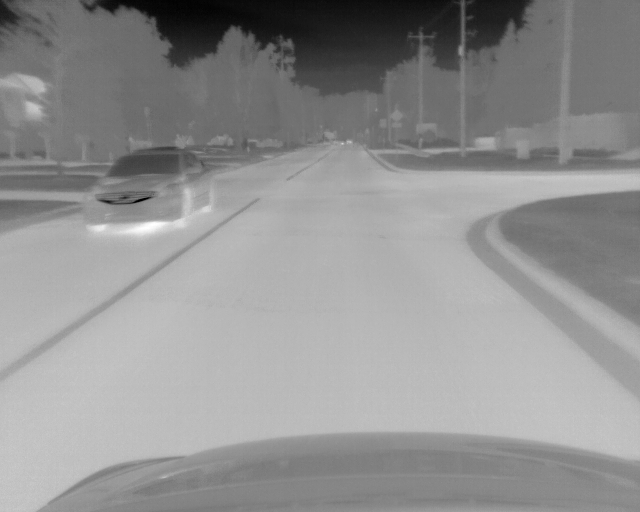car: (81, 145, 216, 233)
